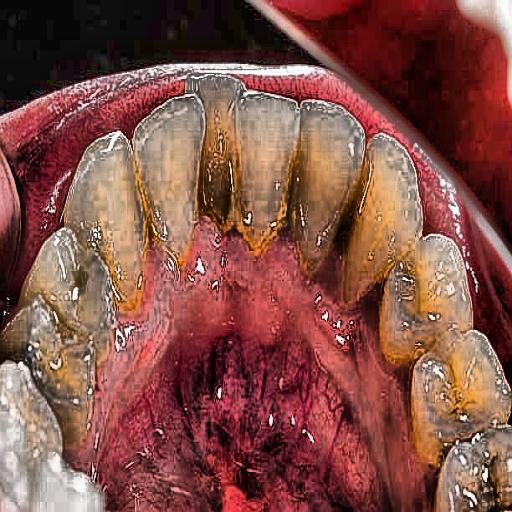Calculus: (120, 155, 464, 403)
